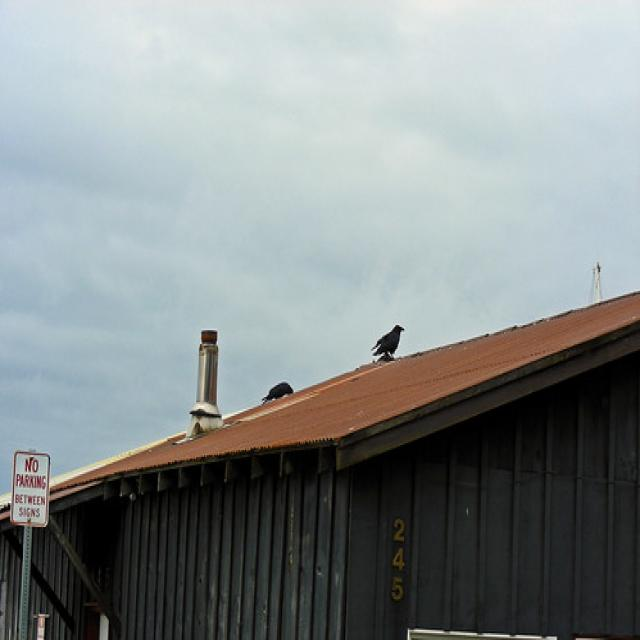bird: (370, 324, 405, 363)
